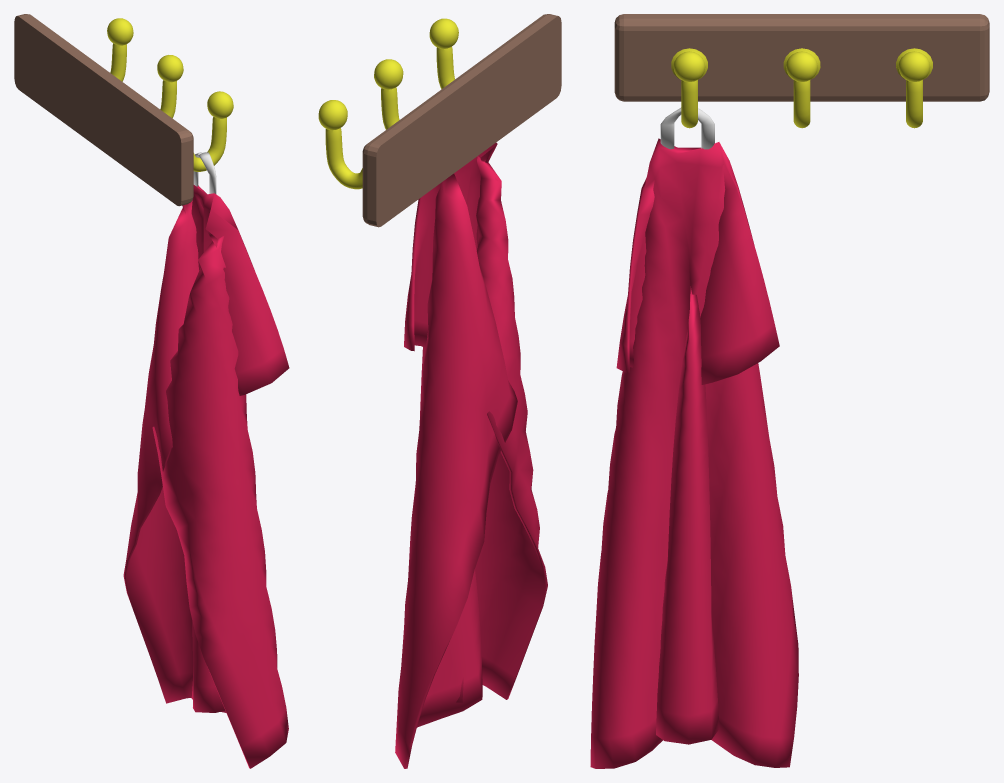
File: towel.fbx
3 views of the same model, side by side, from view 1: azimuth 30°, elevation 25°; view 2: azimuth 150°, elevation 25°; view 3: azimuth 270°, elevation 25° (orthographic). The views are drawn at different scales.
Parts seen in each view (by area): view 1: pyyhe, Naulakon tausta, Koukut, lenkki; view 2: pyyhe, Naulakon tausta, Koukut; view 3: pyyhe, Naulakon tausta, Koukut, lenkki.
Boxes of the visible parts, x1,y1,x2,y2 form: pyyhe: (123,185,289,768); Naulakon tausta: (14,14,193,206); Koukut: (107,18,233,171); lenkki: (193,152,216,193); pyyhe: (395,142,547,768); Naulakon tausta: (362,14,561,227); Koukut: (318,18,458,189); pyyhe: (590,138,798,768); Naulakon tausta: (614,14,989,101); Koukut: (671,48,932,128); lenkki: (660,107,714,149).
Bounding box in the file's own units: 0.0787 × 0.4239 × 0.2129.
